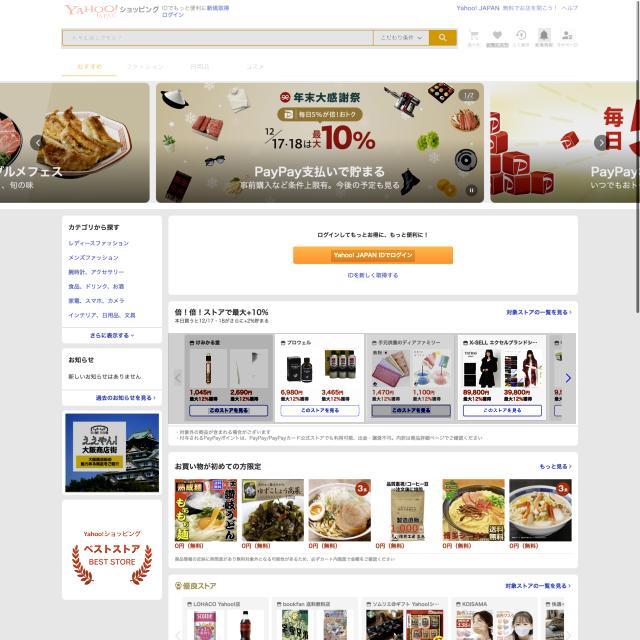CheckBox: (292, 246, 454, 265), (371, 403, 451, 418), (280, 404, 360, 417), (462, 404, 542, 417), (189, 404, 269, 416)
CheckedTextView: (61, 28, 458, 49)
ImageView: (67, 506, 157, 595), (66, 413, 159, 493)
Spinner: (184, 334, 273, 422), (275, 334, 364, 422), (366, 335, 454, 421), (458, 335, 546, 420)
Switch: (0, 81, 639, 203), (168, 333, 576, 424)
alert: (380, 32, 424, 43)
bag: (0, 0, 638, 80)
carousel: (560, 28, 576, 42), (514, 28, 529, 42), (466, 28, 481, 41), (538, 28, 551, 42), (492, 28, 503, 41), (174, 369, 182, 386), (438, 32, 448, 42), (564, 372, 572, 384)
copy: (461, 349, 501, 388), (281, 348, 319, 388), (230, 349, 268, 388), (413, 349, 451, 387), (504, 349, 542, 387), (190, 349, 227, 388), (322, 348, 359, 387), (372, 350, 410, 387)
data feed: (331, 250, 415, 262), (391, 406, 431, 414), (483, 407, 524, 414), (300, 407, 340, 414), (208, 408, 250, 413), (510, 42, 530, 48), (534, 42, 554, 48), (486, 43, 509, 48), (556, 43, 579, 48), (466, 42, 482, 49)
date picker: (59, 1, 119, 21)
footer: (70, 33, 126, 43)
icon: (63, 57, 278, 78)
